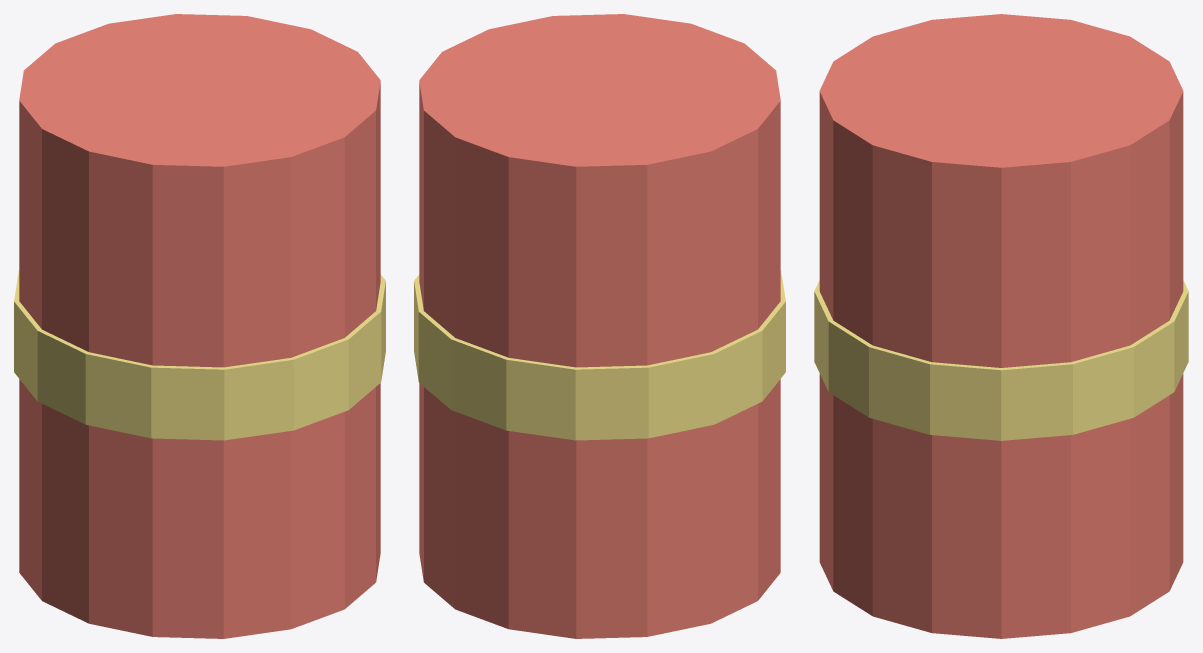
File: Toy_Bumper.fbx
3 views of the same model, side by side, from view 1: azimuth 30°, elevation 25°; view 2: azimuth 150°, elevation 25°; view 3: azimuth 270°, elevation 25° (orthographic).
Visible parts, largest first — view 1: Toy_Bumper; view 2: Toy_Bumper; view 3: Toy_Bumper.
Boxes of the visible parts, left/top/right/bottom form: Toy_Bumper: left=14, top=14, right=385, bottom=638; Toy_Bumper: left=414, top=14, right=785, bottom=638; Toy_Bumper: left=814, top=14, right=1188, bottom=638.
Bounding box in the file's own units: 0.72 × 1 × 0.72.
